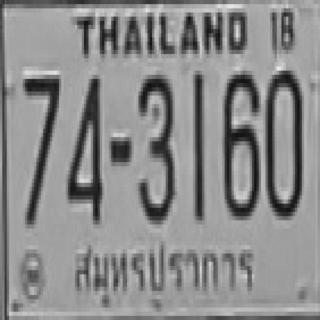N00: (263, 66, 304, 218)
N01: (191, 69, 202, 218)
N03: (136, 71, 176, 226)
N04: (66, 71, 103, 225)
N06: (222, 66, 261, 220)
N07: (23, 71, 59, 224)
P57: (65, 240, 260, 307)
